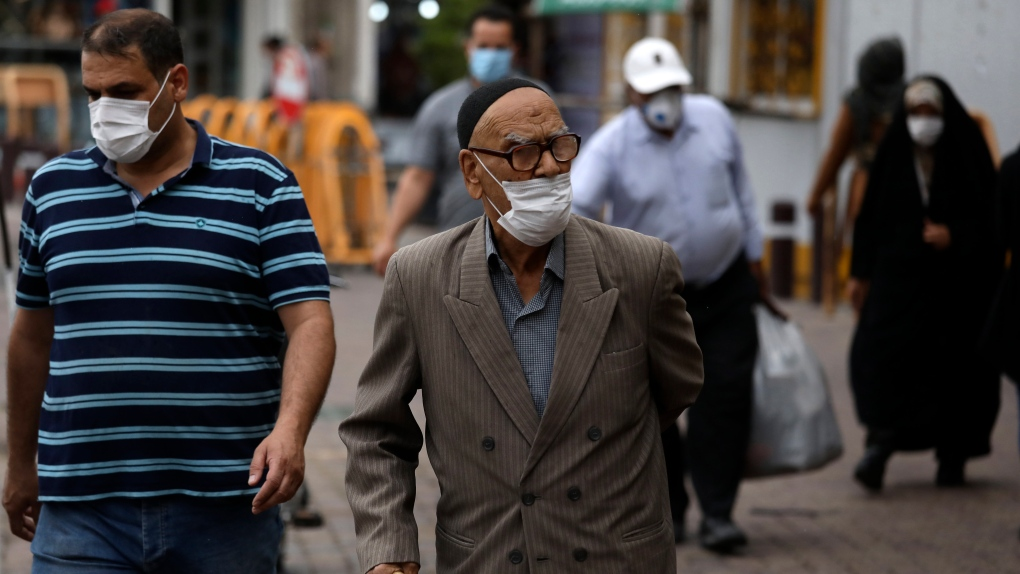with_incorrect_mask: (483, 117, 574, 221)
with_mask: (87, 65, 177, 163)
